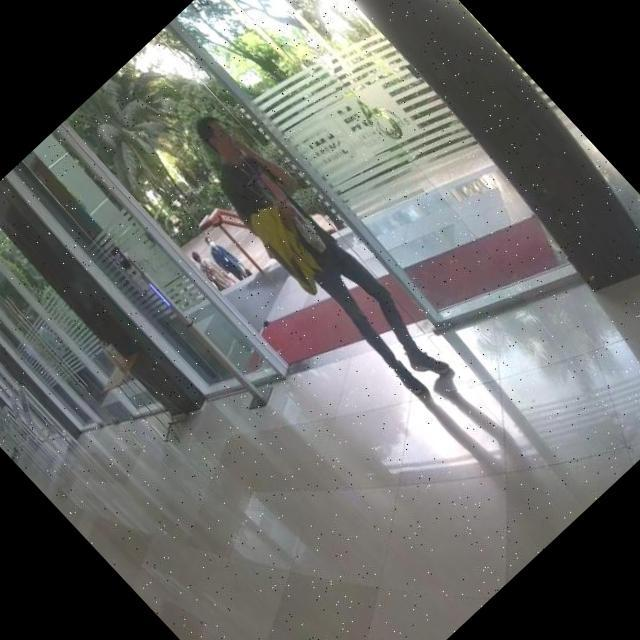person: (170, 101, 462, 407), (198, 230, 255, 290), (188, 245, 235, 294)
